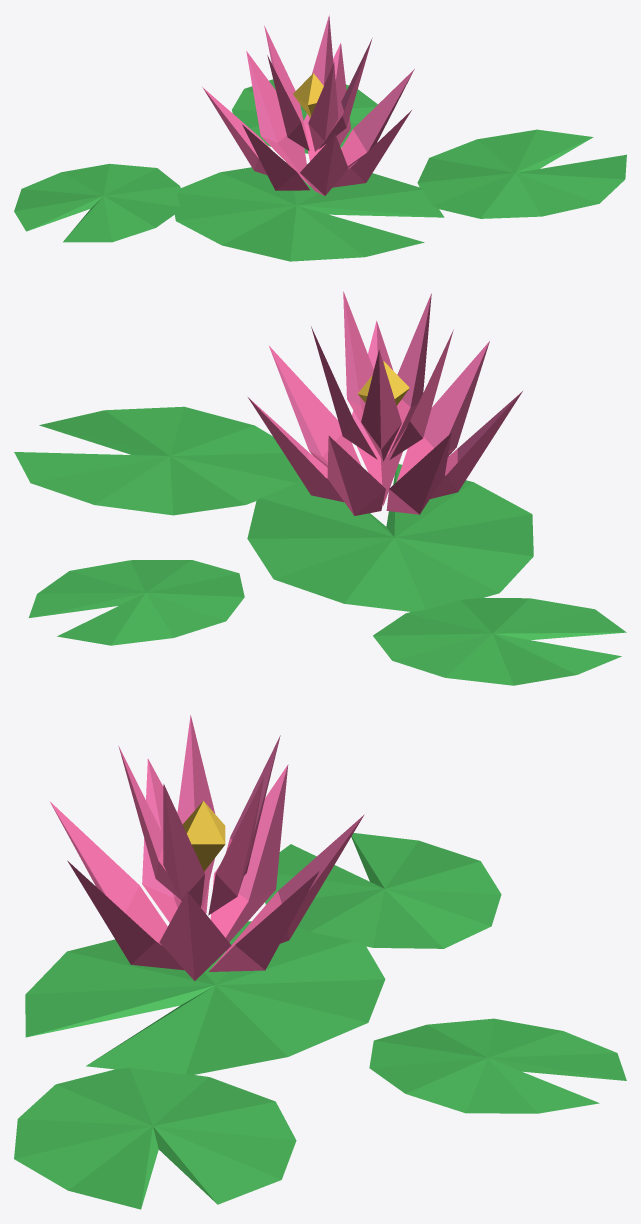
File: lilypads.glb
The picture shows the model from 3 angles, top to bottom: view 1: azimuth 30°, elevation 25°; view 2: azimuth 150°, elevation 25°; view 3: azimuth 270°, elevation 25°; orthographic projection. The views are drawn at different scales.
Visible parts, largest first — view 1: lilypads; view 2: lilypads; view 3: lilypads.
Part boxes in pixels (bbox=[...]): lilypads: bbox=[14, 15, 626, 261]; lilypads: bbox=[14, 291, 626, 685]; lilypads: bbox=[14, 715, 626, 1209].
Size of the model in its own units: 0.258 by 0.08 by 0.1771.
